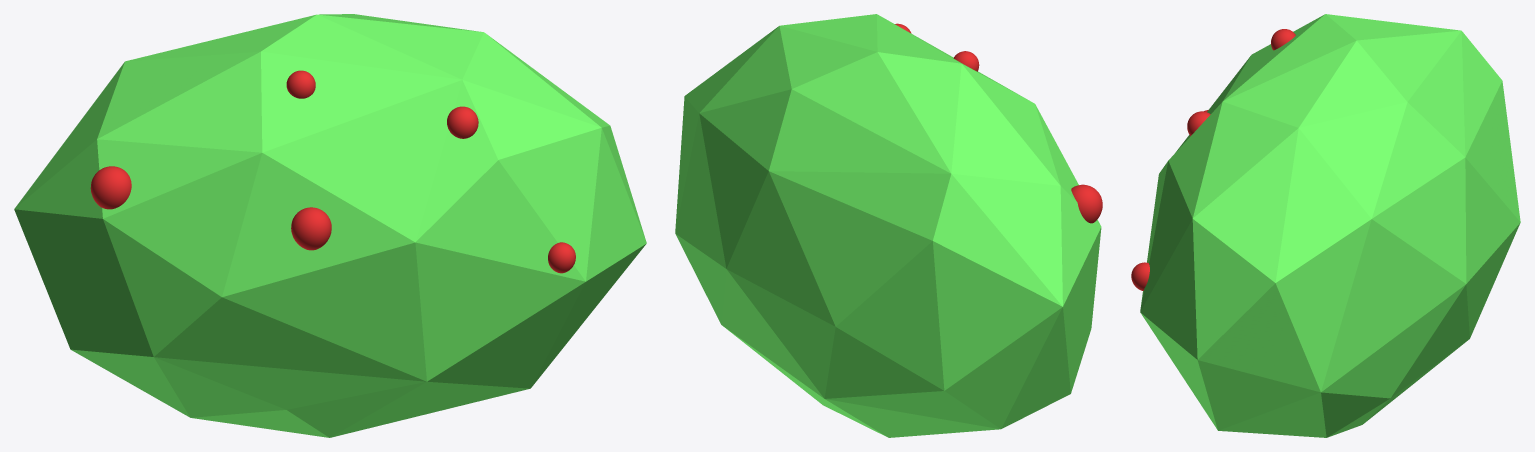
The model's file is Bush_1.fbx.
3 renders of one model, left to right at view 1: azimuth 30°, elevation 25°; view 2: azimuth 150°, elevation 25°; view 3: azimuth 270°, elevation 25°, orthographic. The views are drawn at different scales.
Parts seen in each view (by area): view 1: Sphere, Sphere.004, Sphere.001, Sphere.002, Sphere.005, Sphere.003; view 2: Sphere, Sphere.004; view 3: Sphere, Sphere.005.
Boxes of the visible parts, x1=… form: Sphere: x1=14, y1=14, x2=646, y2=437; Sphere.004: x1=90, y1=166, x2=131, y2=209; Sphere.001: x1=291, y1=207, x2=331, y2=250; Sphere.002: x1=447, y1=106, x2=478, y2=138; Sphere.005: x1=548, y1=242, x2=575, y2=273; Sphere.003: x1=286, y1=70, x2=315, y2=98; Sphere: x1=675, y1=14, x2=1101, y2=437; Sphere.004: x1=1071, y1=184, x2=1102, y2=223; Sphere: x1=1140, y1=14, x2=1520, y2=437; Sphere.005: x1=1131, y1=262, x2=1149, y2=290.
Bounding box in the file's own units: 638 × 477 × 464.
